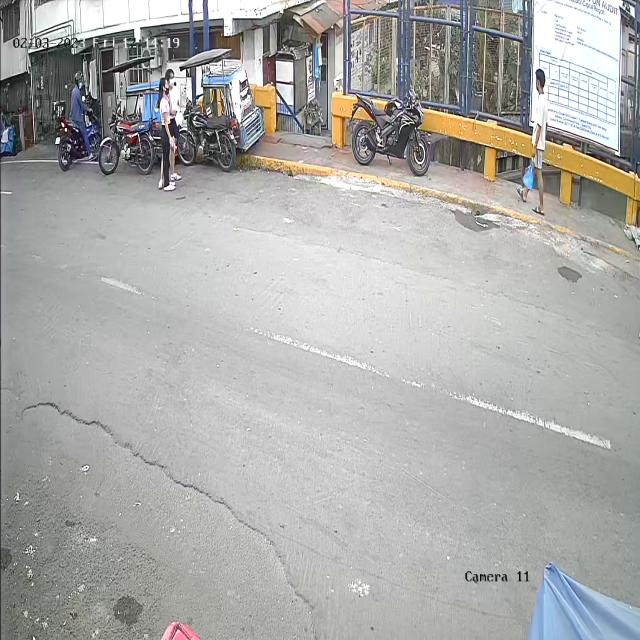human: (517, 68, 545, 216)
trash: (518, 149, 534, 194)
